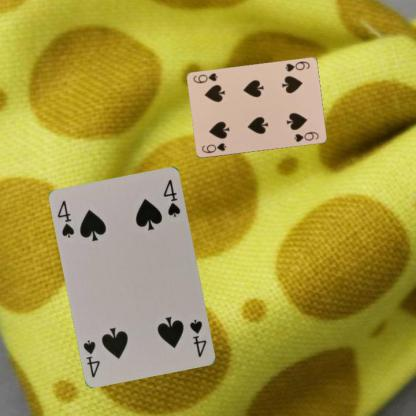4s: (187, 316, 209, 358), (55, 198, 76, 239)
6s: (282, 59, 311, 73), (199, 140, 227, 154)
